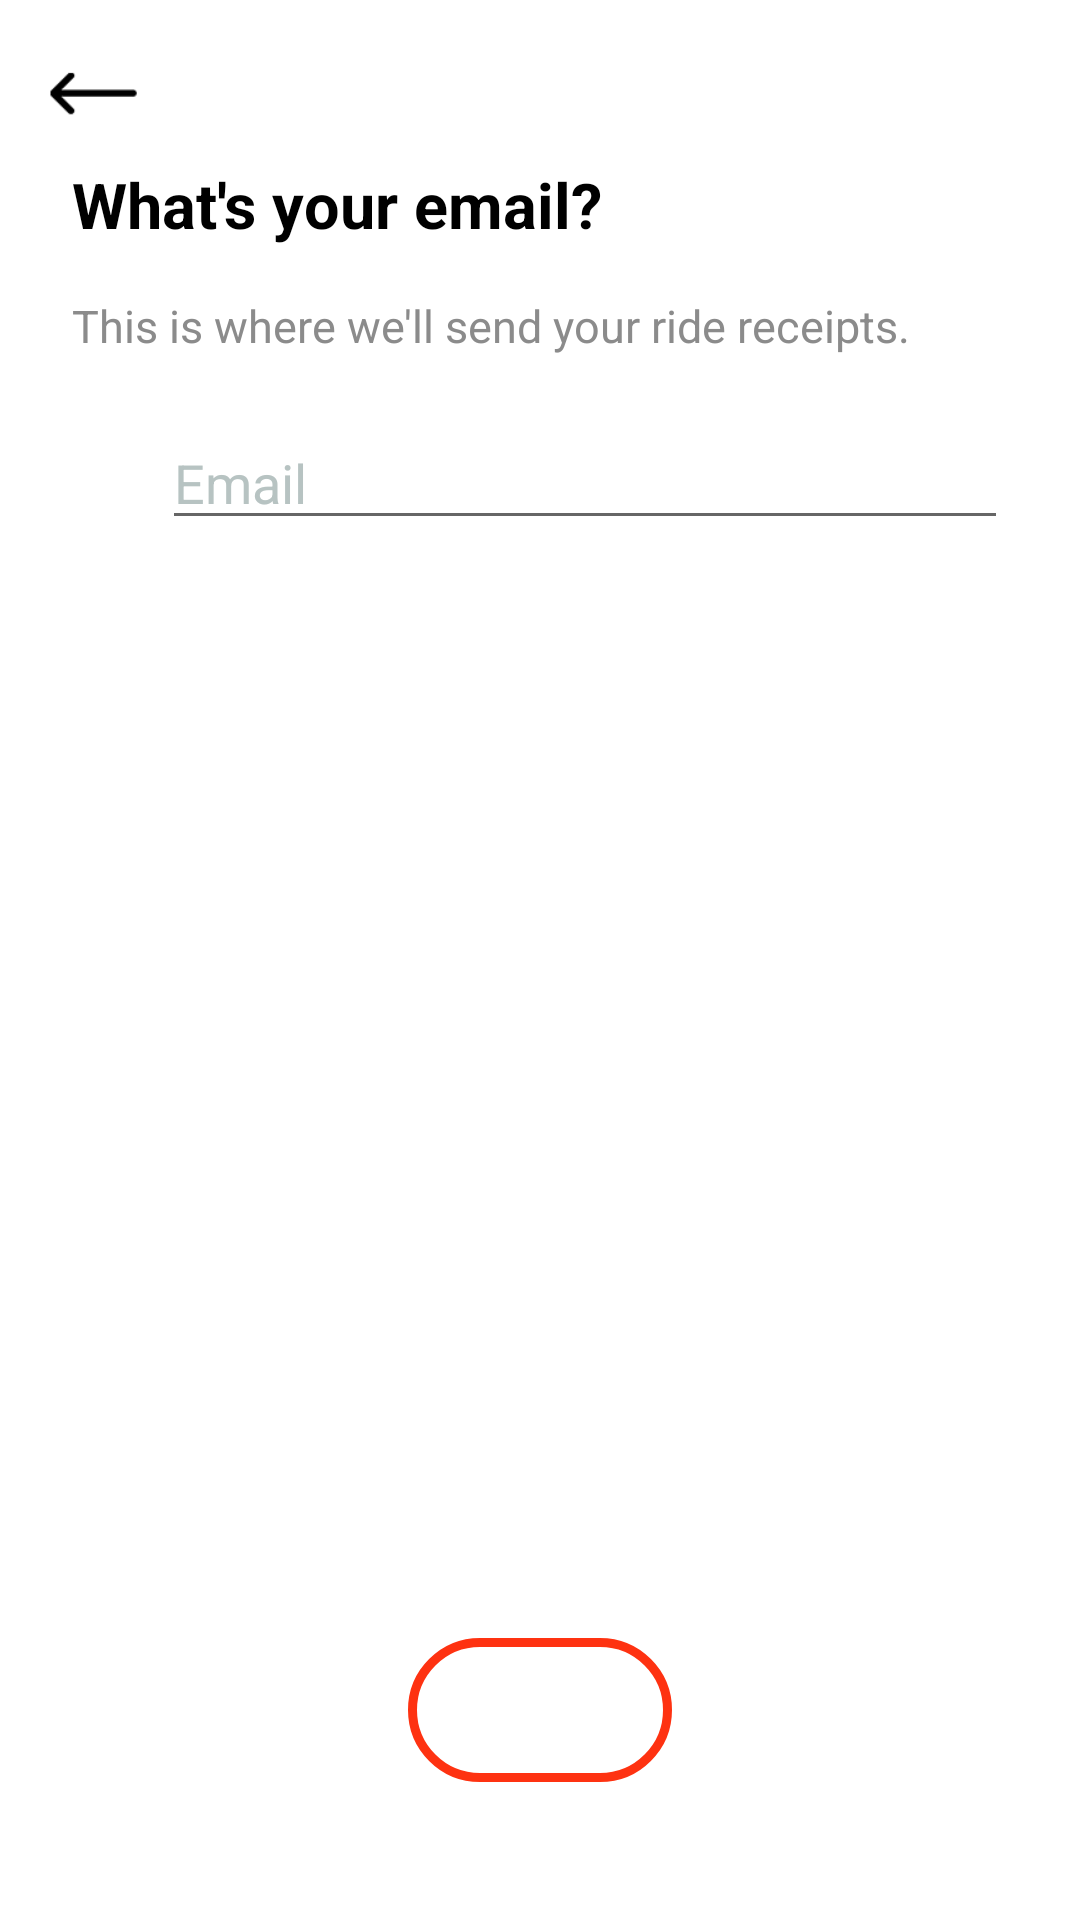

Where to tap for icons on this 1080 x 1920 app screen, as point (x, y):
backarrow: point (93, 93)
